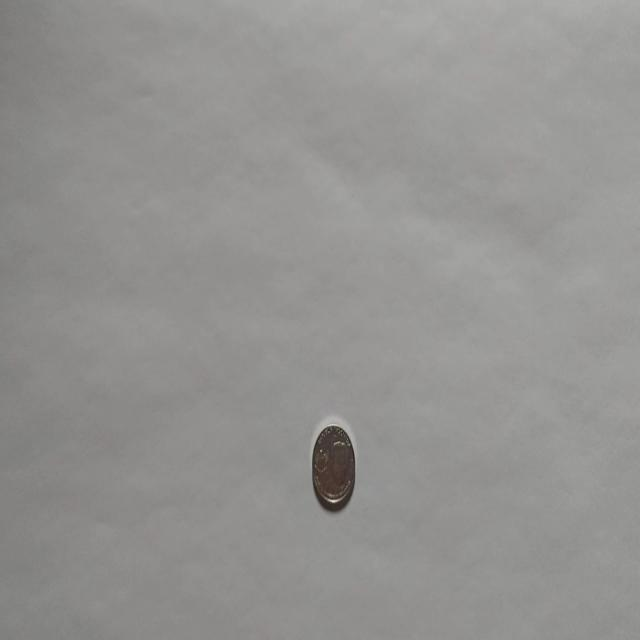seratus rupiah: (310, 422, 356, 510)
